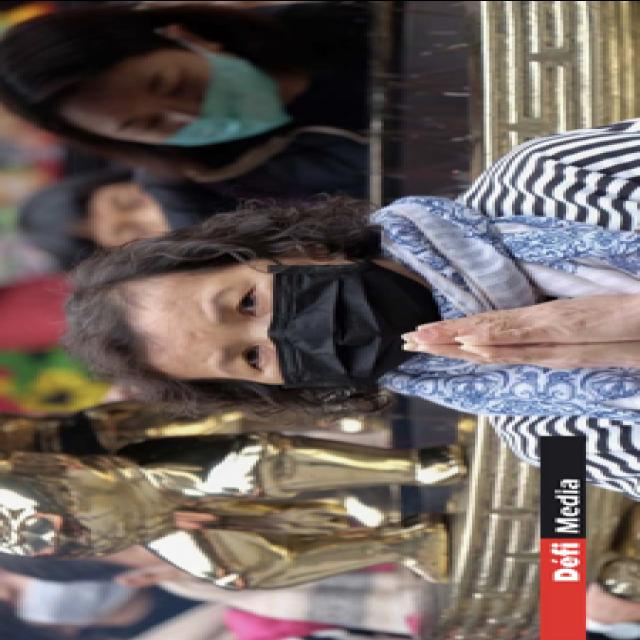with_mask: (202, 256, 438, 394), (100, 51, 294, 147)
